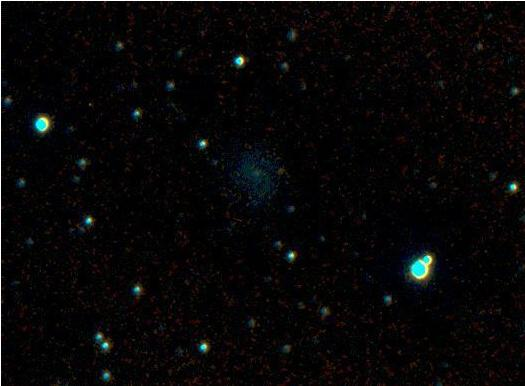star: (266, 156, 296, 186)
